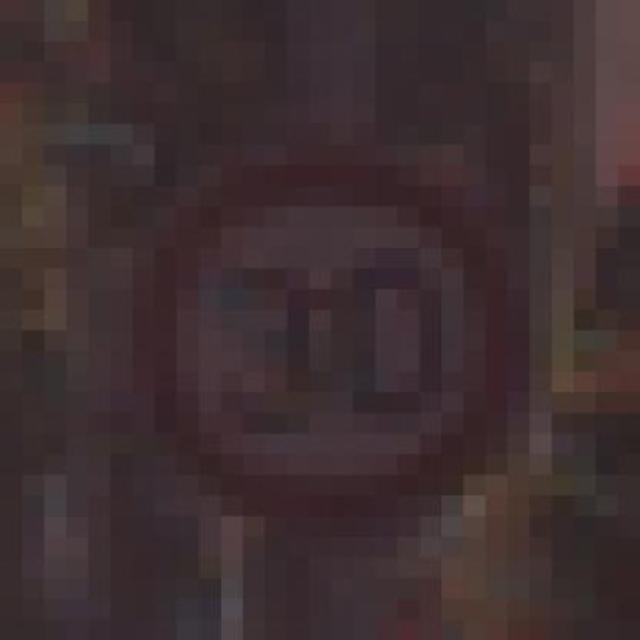Speed Limit 30 KMPh: (66, 124, 596, 578)
